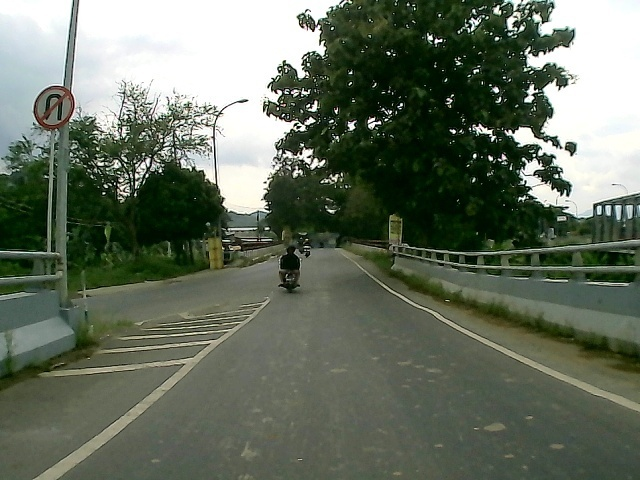Dilarang berbalik arah: (30, 84, 76, 129)
